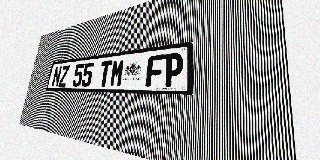5: (81, 62, 94, 87), (72, 63, 85, 87)
F: (145, 54, 165, 87)
M: (109, 59, 125, 87)
N: (51, 66, 62, 87)
P: (163, 52, 184, 87)
T: (98, 60, 113, 87)
Z: (58, 65, 70, 87)
